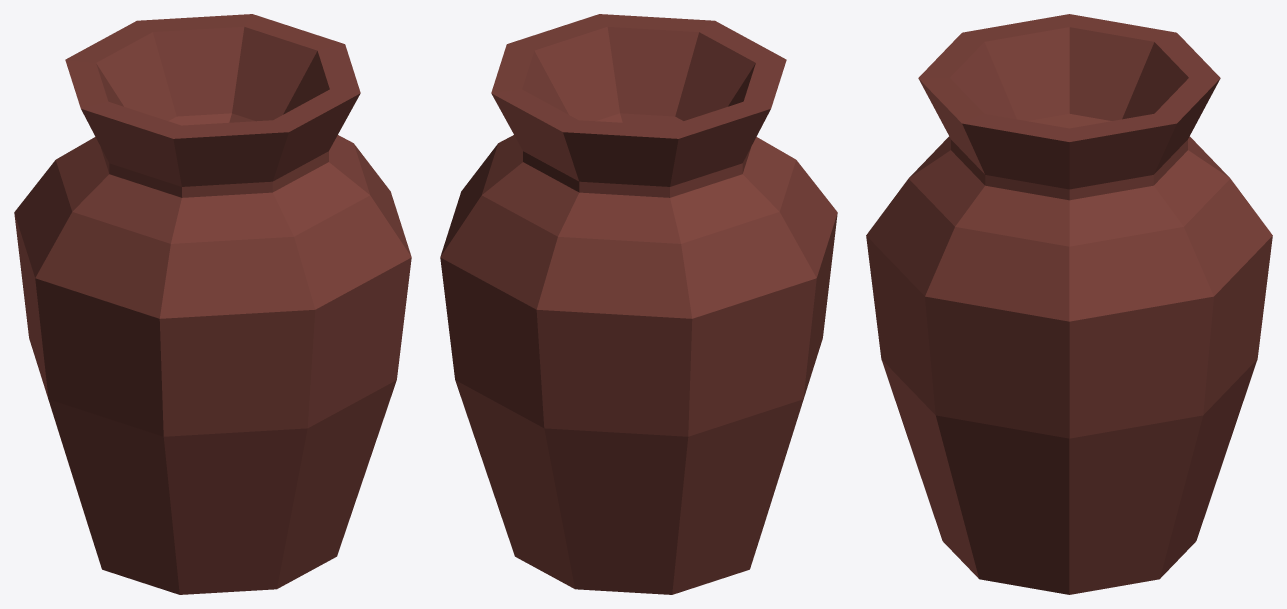
The model's file is jarron.glb.
3 views of the same model, side by side, from view 1: azimuth 30°, elevation 25°; view 2: azimuth 150°, elevation 25°; view 3: azimuth 270°, elevation 25° (orthographic).
Visible parts, largest first — view 1: serveware; view 2: serveware; view 3: serveware.
Part boxes in pixels (x1=…): serveware: x1=14, y1=14, x2=411, y2=594; serveware: x1=440, y1=14, x2=837, y2=594; serveware: x1=866, y1=14, x2=1272, y2=594.
Bounding box in the file's own units: 0.4748 × 0.5952 × 0.4735.
